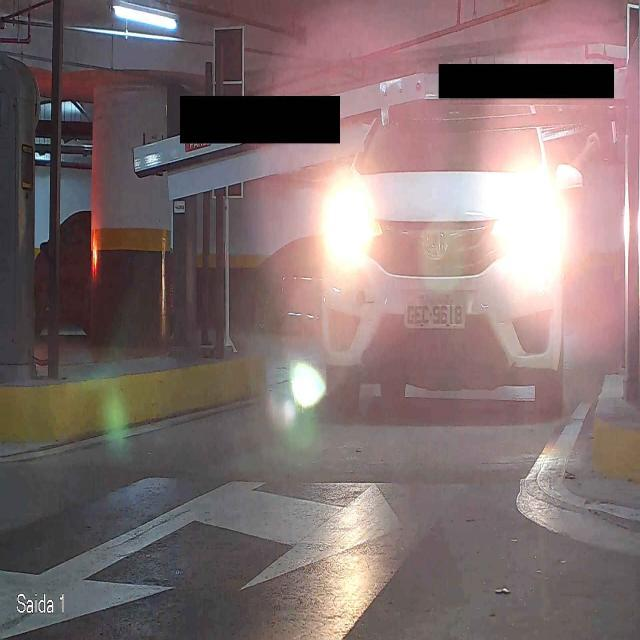old_plate: (402, 301, 467, 330)
